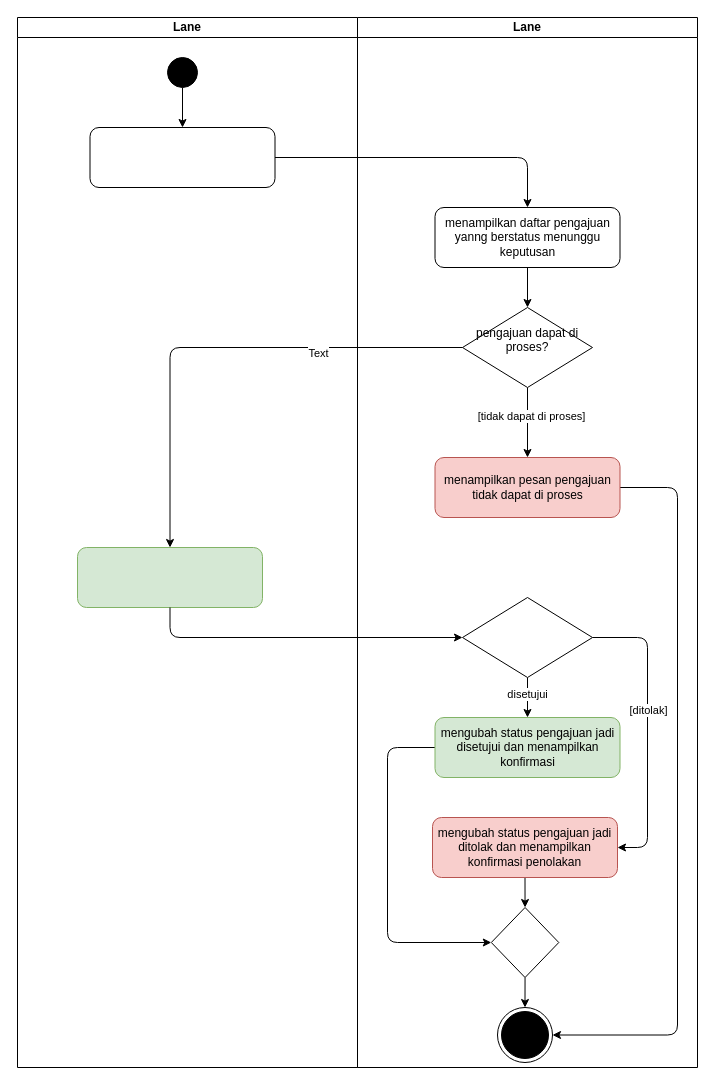
Image size: 715x1085. Some labels were removed from this diagram. Here are the shapes that lost their labels. From the top down, the centre of each, then its label:
At (x=182, y=157): "membuka daftar pengajuan yanng berstatus menunggu keputusan".
At (x=169, y=577): "memilih pengajuan dan menetapkan persetujuan atau penolakan".
At (x=527, y=637): "pengajuan disetujui?".
